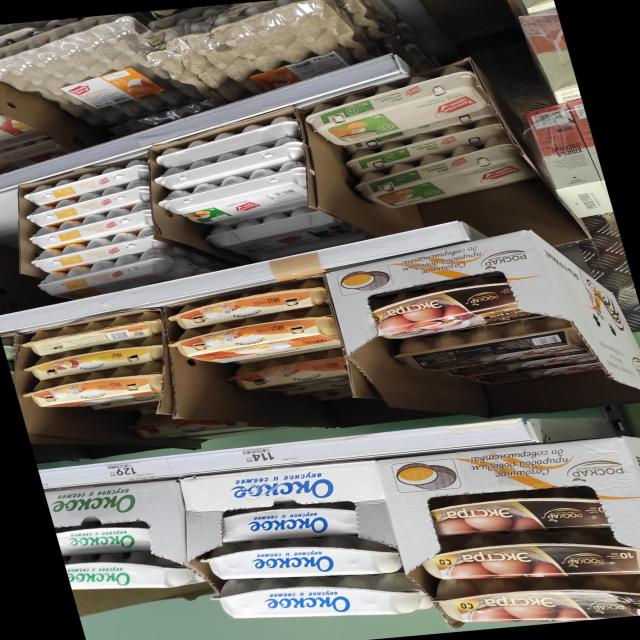organic waste: (416, 516, 639, 594), (295, 65, 493, 148), (428, 560, 639, 633), (345, 138, 541, 212), (352, 274, 556, 343), (208, 570, 433, 631), (197, 531, 406, 589), (428, 482, 613, 542), (165, 310, 342, 366), (165, 278, 331, 330), (64, 546, 205, 596), (27, 364, 167, 412), (19, 338, 169, 382), (218, 503, 368, 544), (224, 352, 354, 395), (55, 520, 152, 560)
